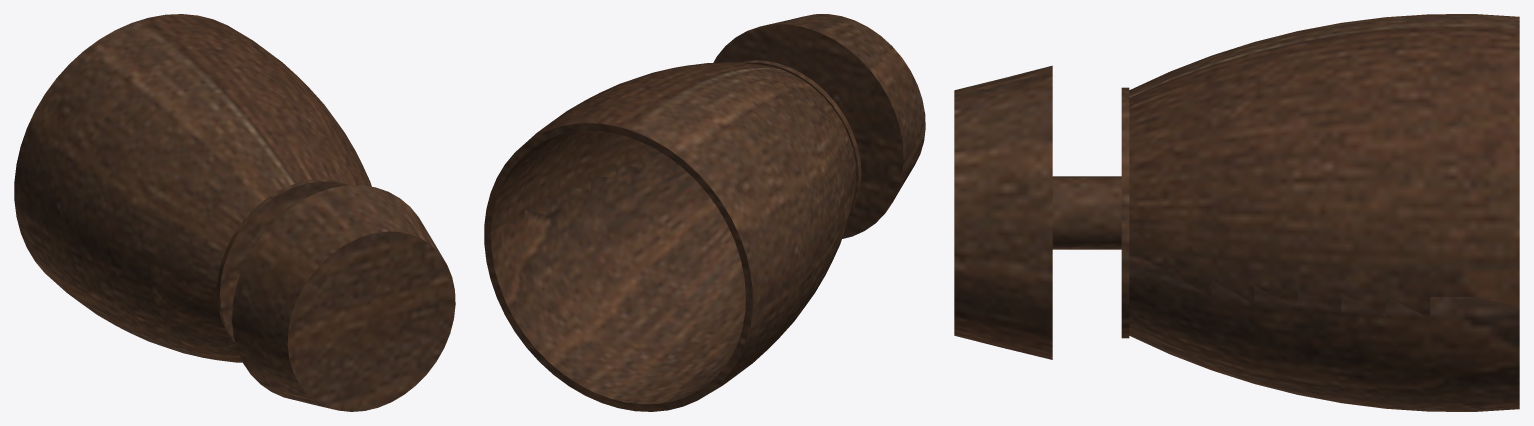
The model's file is caliceindigena.glb.
3 views of the same model, side by side, from view 1: azimuth 30°, elevation 25°; view 2: azimuth 150°, elevation 25°; view 3: azimuth 270°, elevation 25° (orthographic). The views are drawn at different scales.
Parts seen in each view (by area): view 1: Sólido1; view 2: Sólido1; view 3: Sólido1.
Boxes of the visible parts, x1=… form: Sólido1: x1=14, y1=14, x2=455, y2=411; Sólido1: x1=484, y1=14, x2=925, y2=411; Sólido1: x1=954, y1=14, x2=1519, y2=411.
Bounding box in the file's own units: 0.081 × 0.0808 × 0.115.
Materials: 1 (1 with a texture image).
